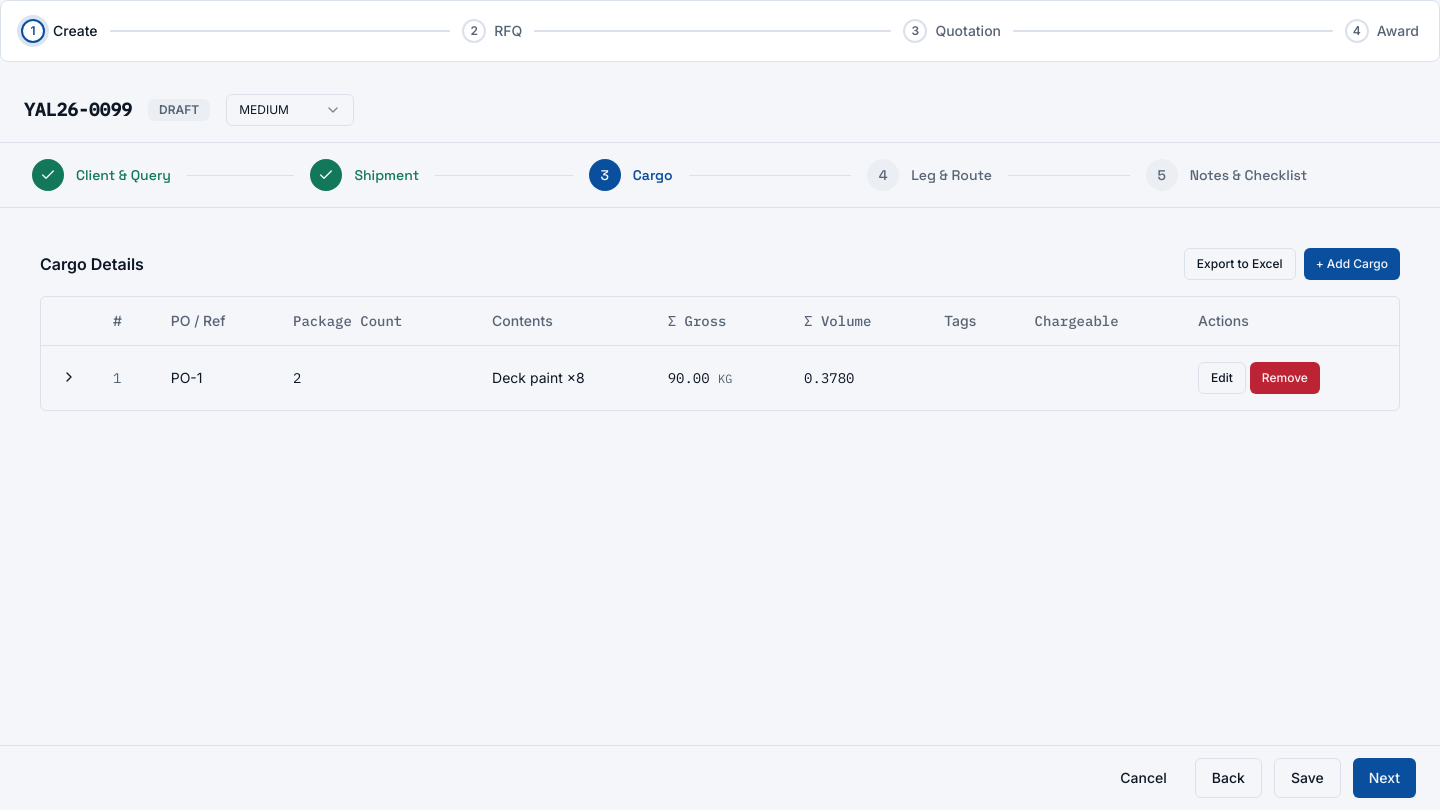
Step3Cargo › shows a cargo row with derived totals and expands to packages then items
The width and height of the screenshot is (1440, 810).
Check: the text "YAL26-0099" is shown, box [24,98,132,121]
What coordinates should you click on to do the following:
click the button "3 Cargo"
I would click on:
 (631, 175)
Its box is [581,155,681,195].
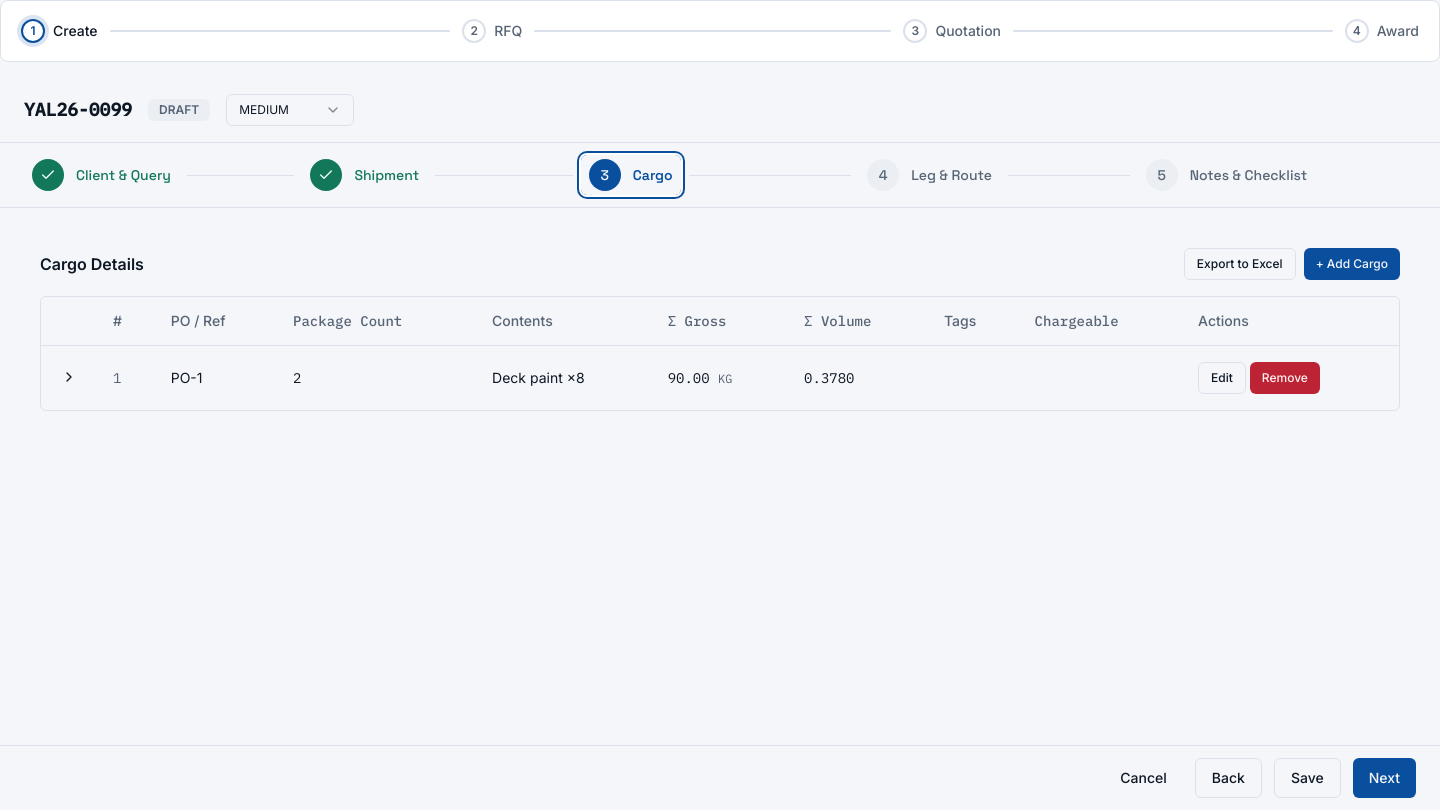
Check: the text "2" is shown, box [277,345,476,410]
What coordinates should you click on to do the following:
click the button named "Expand cargo PO-1"
I would click on:
 (69, 377)
Its box is [57,365,81,389].
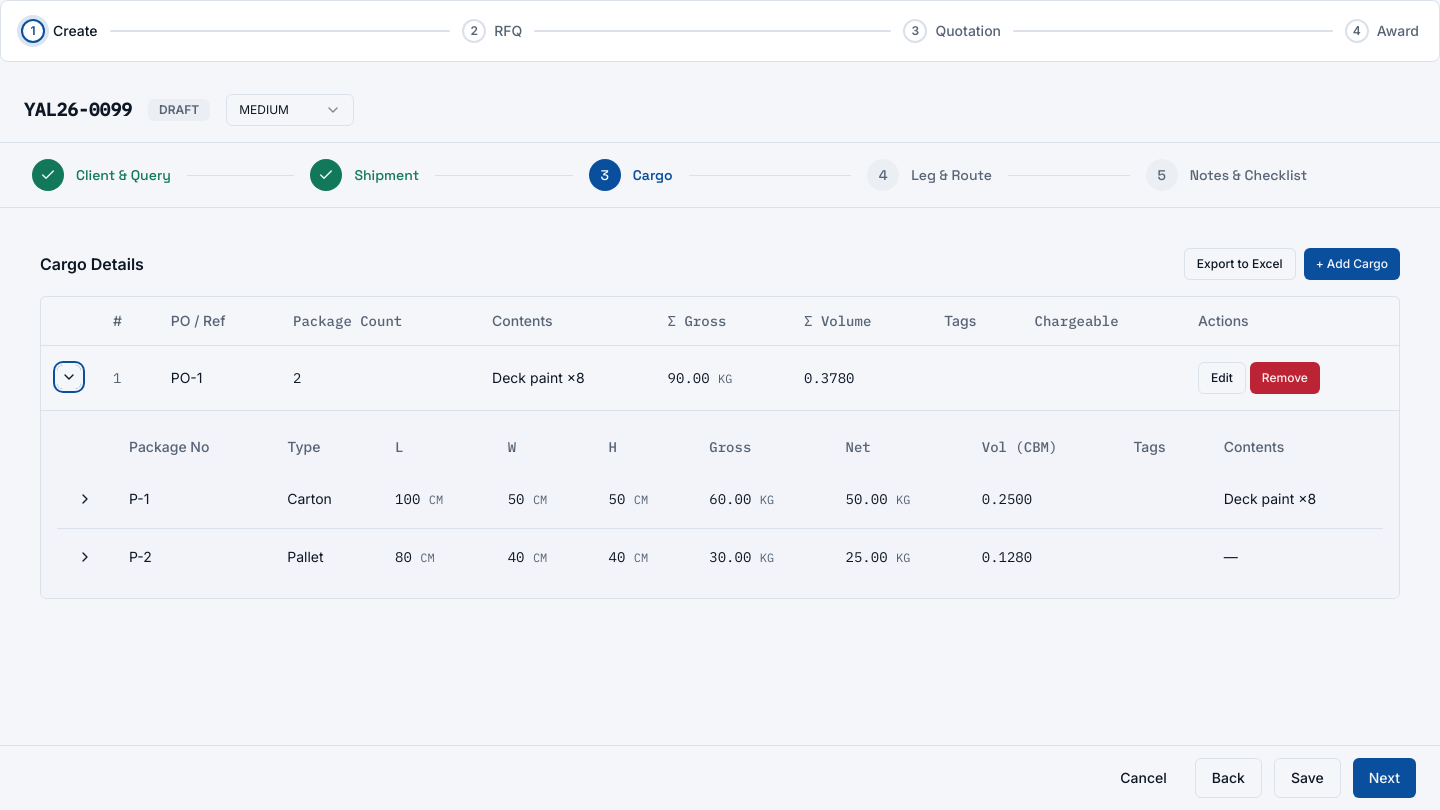
Check: the text "P-1" is shown, box [113,470,271,528]
What coordinates should you click on to do the following:
click the button named "Expand package P-1"
I would click on:
 (85, 498)
Its box is [73,486,97,510].
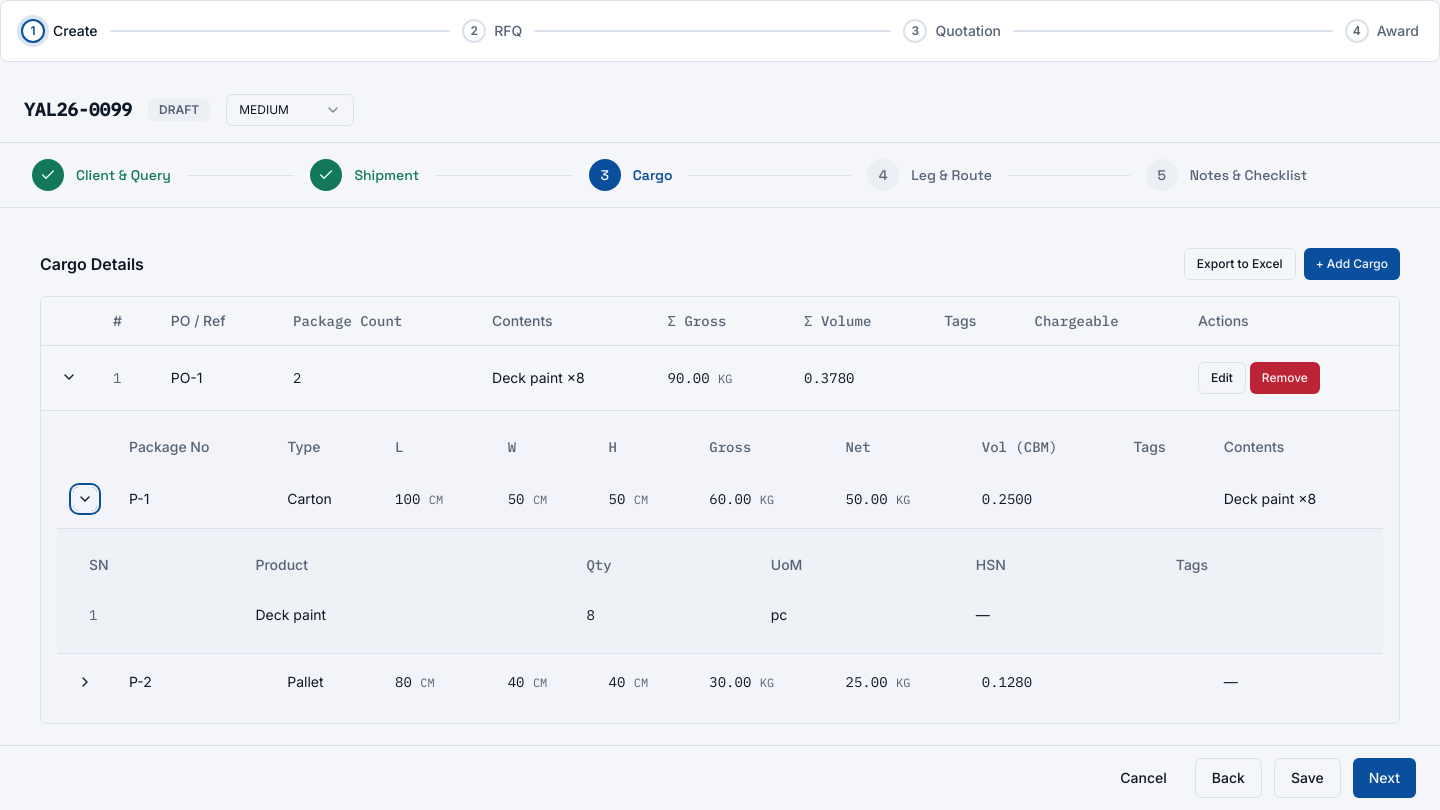
Check: the text "Deck paint" is shown, box [239,588,570,640]
